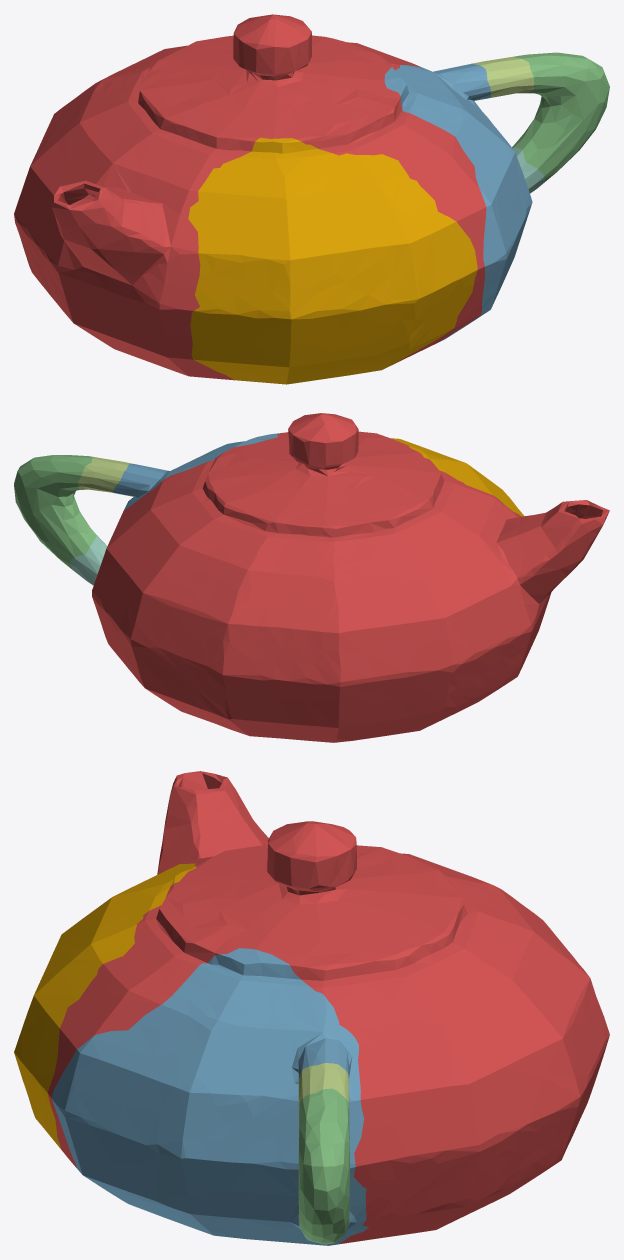
Rendered from fractured_48_6pcs.glb.
3 views of the same model, one above another, from view 1: azimuth 30°, elevation 25°; view 2: azimuth 150°, elevation 25°; view 3: azimuth 270°, elevation 25° (orthographic). The views are drawn at different scales.
Visible parts, largest first — view 1: piece_1.obj, piece_0.obj, piece_2.obj, piece_3.obj, piece_5.obj, piece_4.obj; view 2: piece_1.obj, piece_3.obj, piece_2.obj, piece_0.obj, piece_5.obj, piece_4.obj; view 3: piece_1.obj, piece_2.obj, piece_0.obj, piece_3.obj, piece_5.obj.
Part boxes in pixels (<box>): piece_1.obj: <box>14,14,486,380</box>; piece_0.obj: <box>188,137,477,384</box>; piece_2.obj: <box>384,63,532,342</box>; piece_3.obj: <box>512,52,609,183</box>; piece_5.obj: <box>473,56,534,97</box>; piece_4.obj: <box>512,147,544,193</box>; piece_1.obj: <box>92,413,609,742</box>; piece_3.obj: <box>14,455,100,568</box>; piece_2.obj: <box>113,433,280,510</box>; piece_0.obj: <box>391,438,524,516</box>; piece_5.obj: <box>77,457,133,492</box>; piece_4.obj: <box>70,536,107,585</box>; piece_1.obj: <box>47,771,609,1243</box>; piece_2.obj: <box>51,948,368,1245</box>; piece_0.obj: <box>14,863,196,1149</box>; piece_3.obj: <box>298,1088,349,1243</box>; piece_5.obj: <box>298,1063,349,1112</box>.
Bounding box in the file's own units: 1 × 0.4864 × 0.7399.
